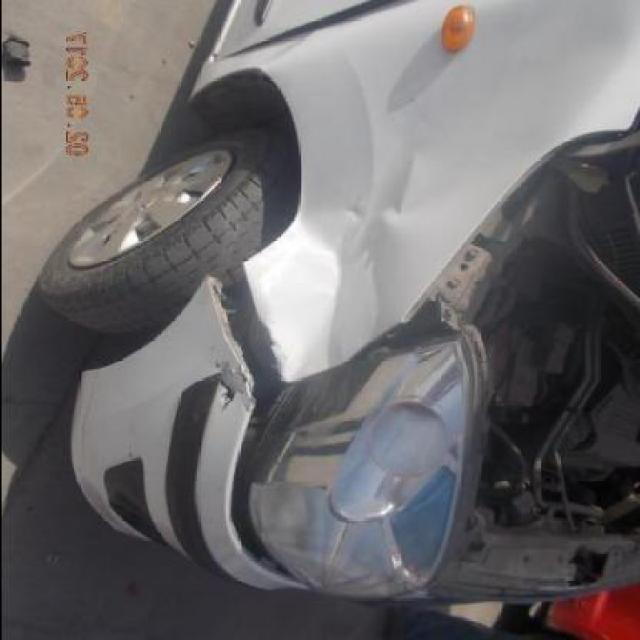damage: (278, 152, 420, 370), (206, 263, 291, 578)
